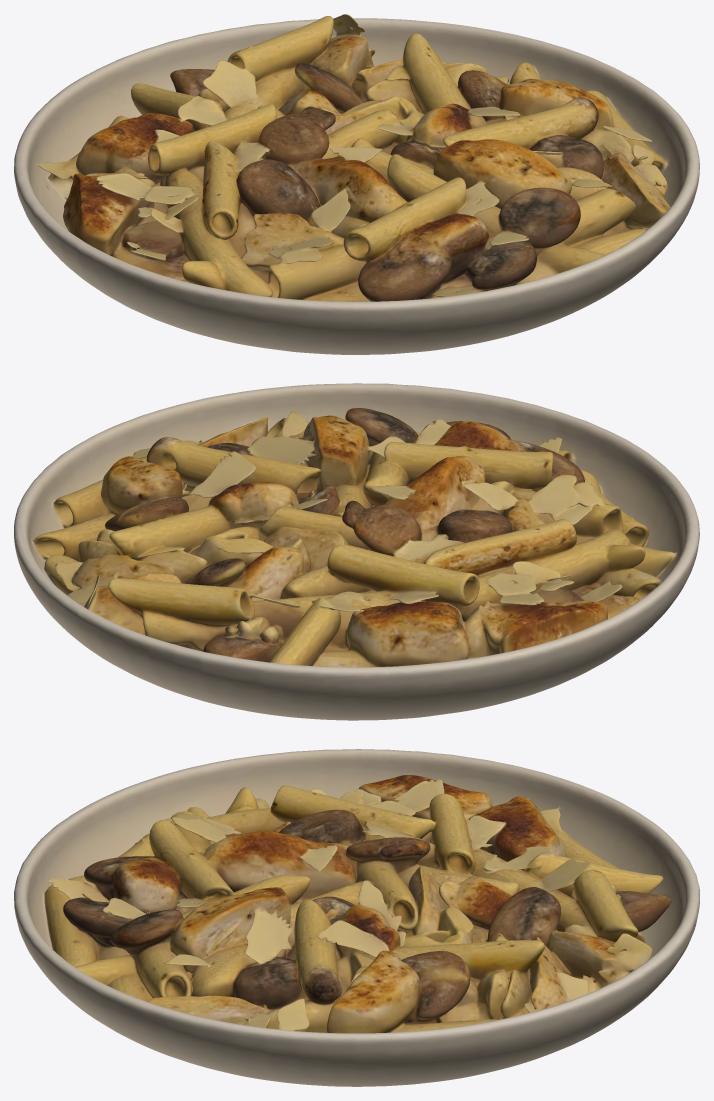
The picture shows the model from 3 angles, top to bottom: view 1: azimuth 30°, elevation 25°; view 2: azimuth 150°, elevation 25°; view 3: azimuth 270°, elevation 25°; orthographic projection.
Parts seen in each view (by area): view 1: tripo_node_3ed55a74-1ade-42f8-bcef-c35fe8498c11; view 2: tripo_node_3ed55a74-1ade-42f8-bcef-c35fe8498c11; view 3: tripo_node_3ed55a74-1ade-42f8-bcef-c35fe8498c11.
Boxes of the visible parts, x1=… form: tripo_node_3ed55a74-1ade-42f8-bcef-c35fe8498c11: x1=14, y1=14, x2=699, y2=354; tripo_node_3ed55a74-1ade-42f8-bcef-c35fe8498c11: x1=14, y1=383, x2=699, y2=720; tripo_node_3ed55a74-1ade-42f8-bcef-c35fe8498c11: x1=14, y1=749, x2=699, y2=1086.
Size of the model in its own units: 0.9801 by 0.1962 by 0.9789.
1 material, 1 textured.
